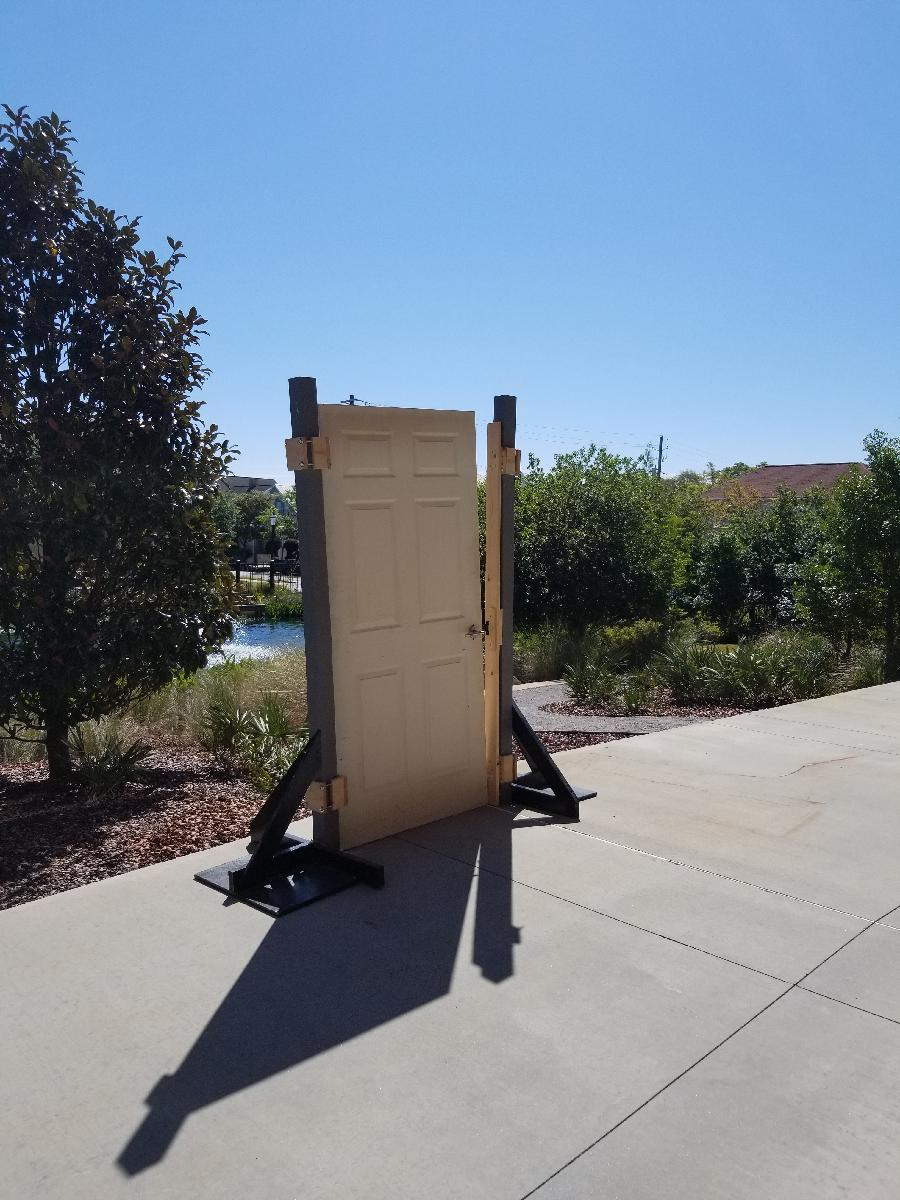door: (315, 400, 494, 860)
doorHandle: (456, 618, 494, 650)
